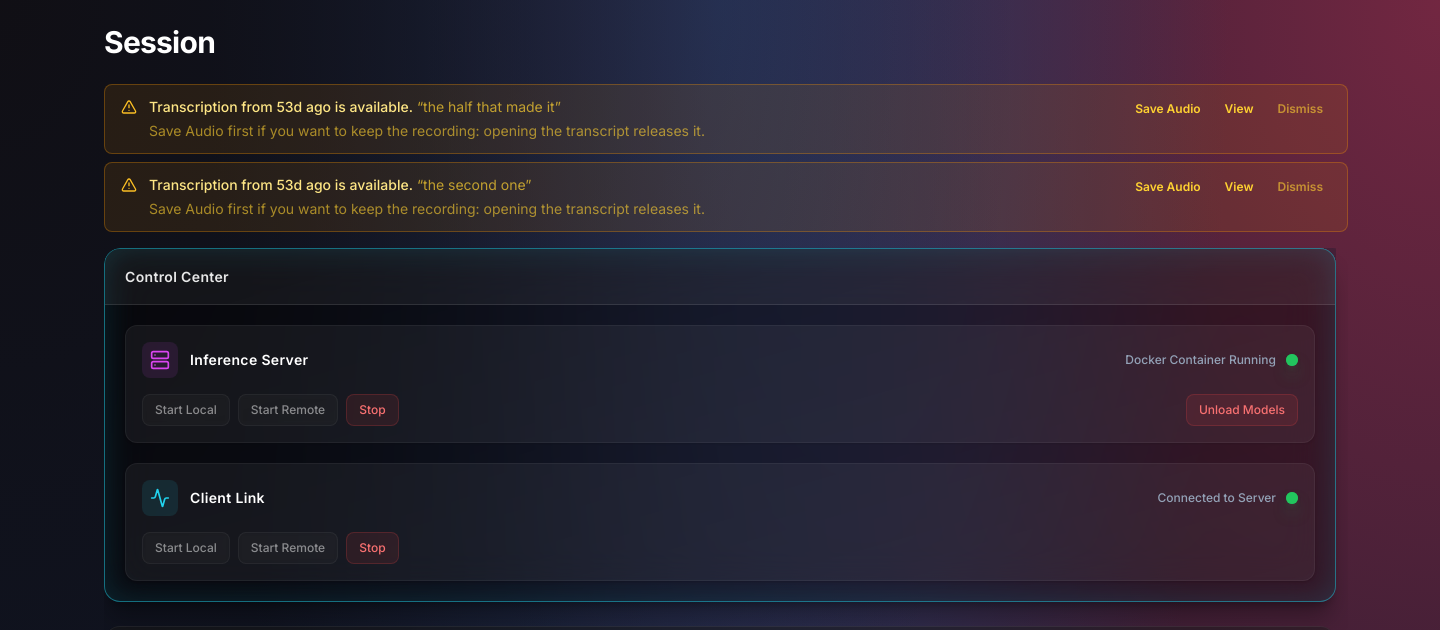
SessionView - recovery banner refresh › keeps a row whose dismiss is still in flight out of a concurrent re-check
Expected: the text "“the second one”" is shown, 417,176 -> 531,193
Click the button "Dismiss" in the row of "the half that made it" at (1300, 109), box 1270,97 -> 1331,121
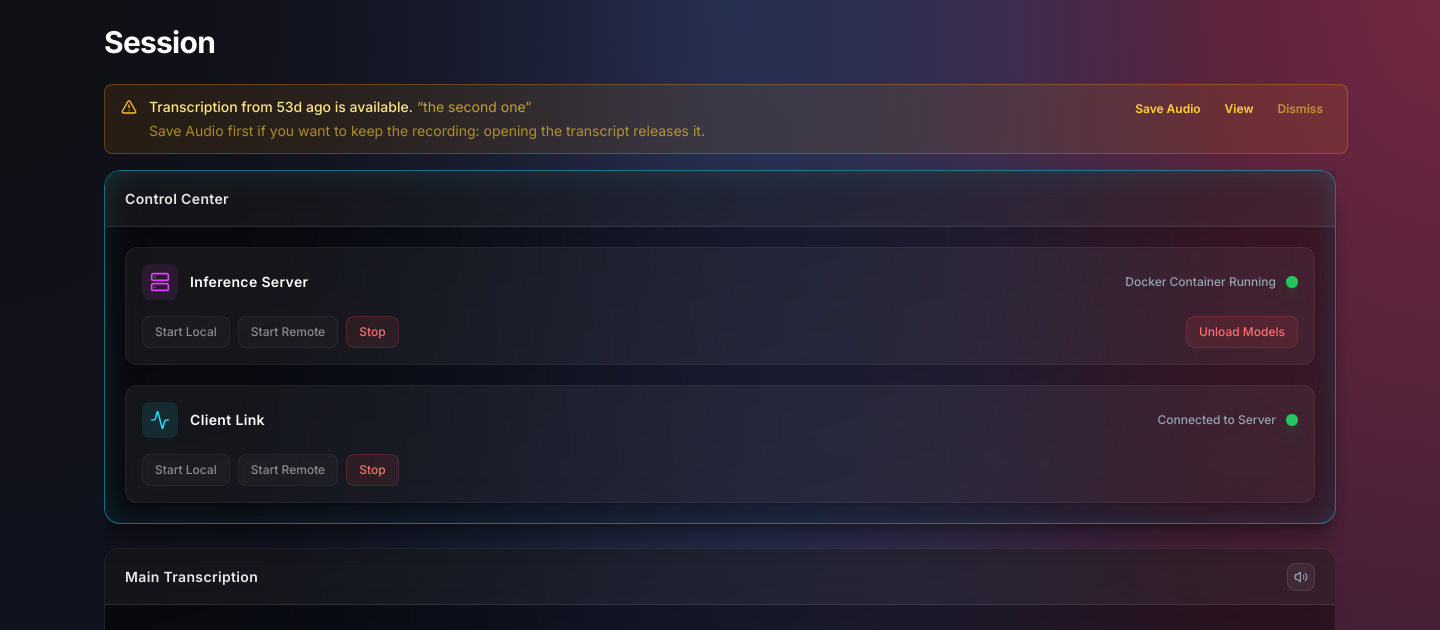
Click the button "Dismiss" at (1300, 109), box 1270,97 -> 1331,121
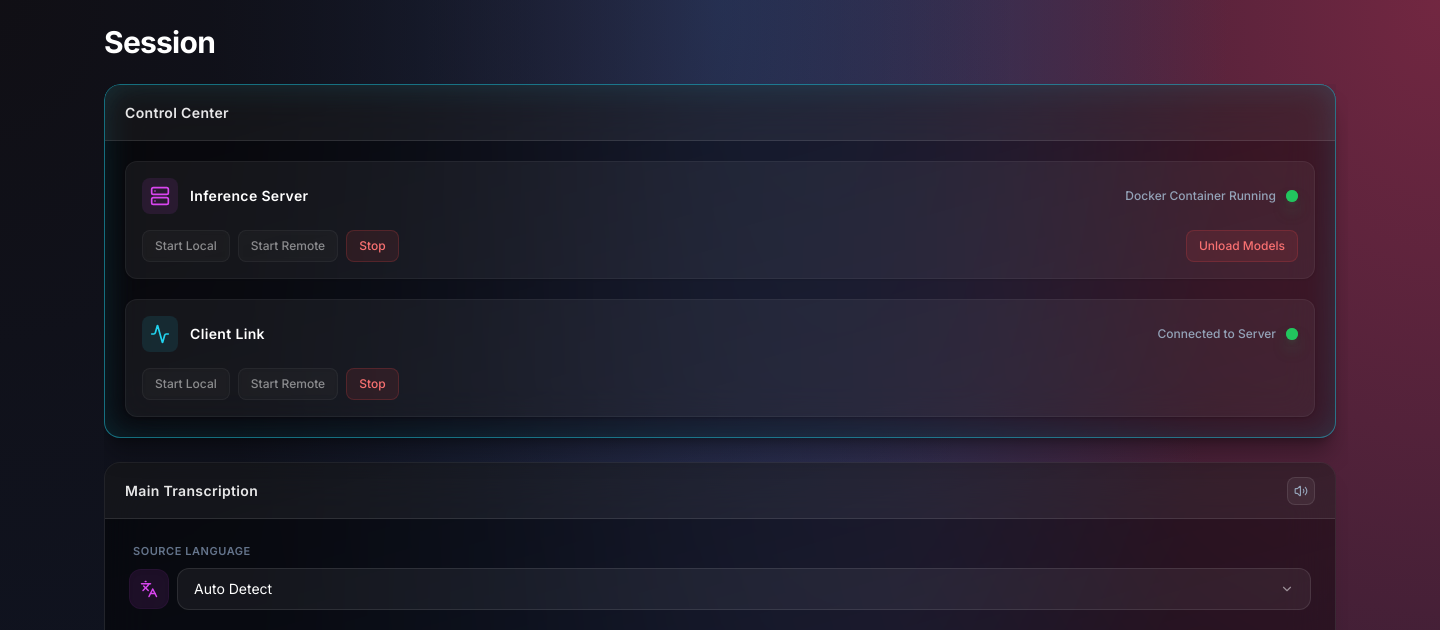
Result: the text "the second one" is gone
